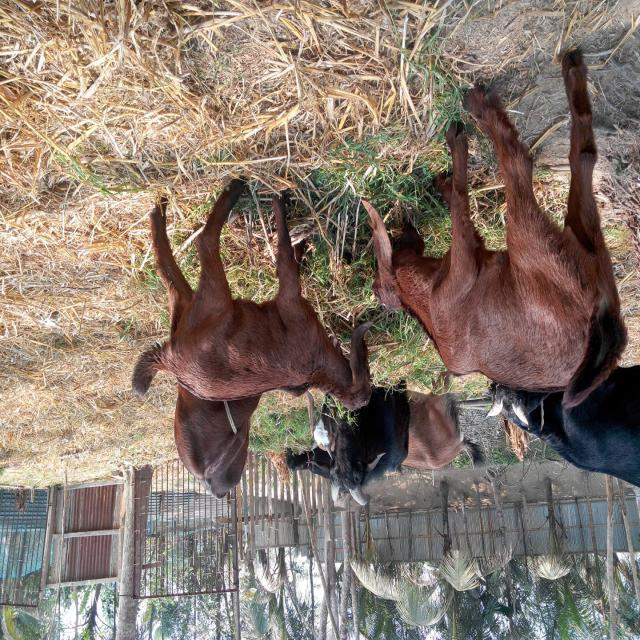Goat: (360, 51, 630, 410), (132, 178, 375, 418), (307, 374, 487, 508), (485, 364, 640, 489)
